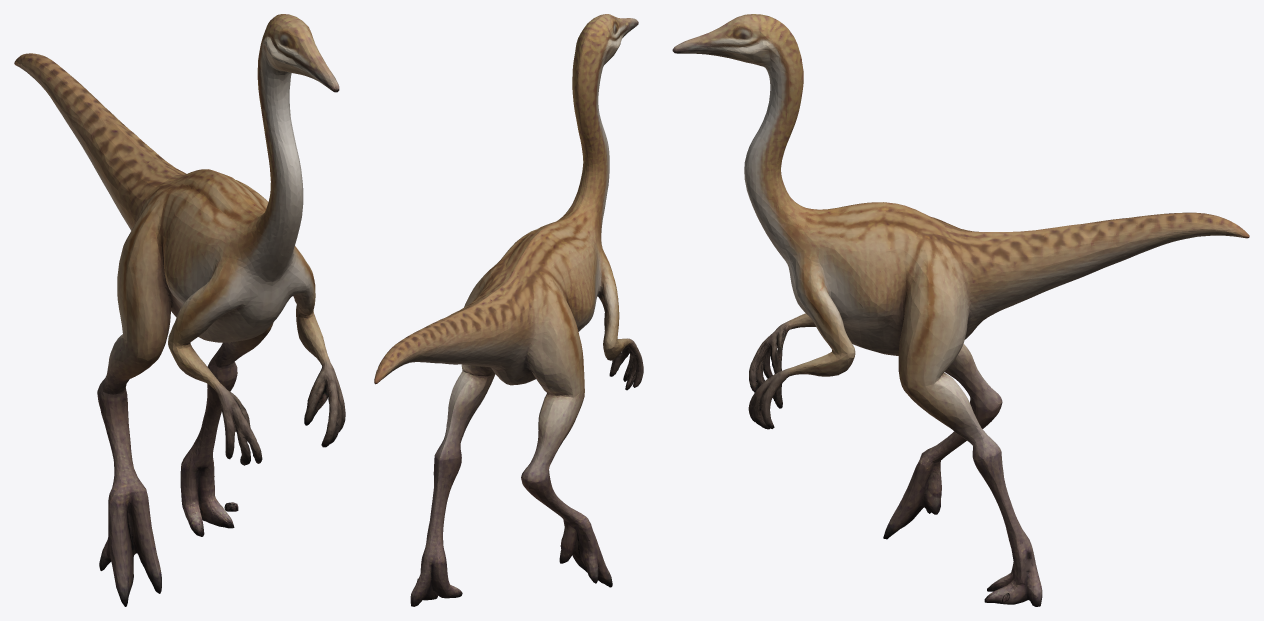
The picture shows the model from 3 angles, left to right: view 1: azimuth 30°, elevation 25°; view 2: azimuth 150°, elevation 25°; view 3: azimuth 270°, elevation 25°; orthographic projection. The views are drawn at different scales.
Parts seen in each view (by area): view 1: world; view 2: world; view 3: world.
Part boxes in pixels (x1,y1,x2,y2): world: (14,14,345,606); world: (374,14,643,606); world: (672,14,1249,606).
Size of the model in its own units: 0.3008 by 1 by 0.934.
2 materials, 1 textured.
